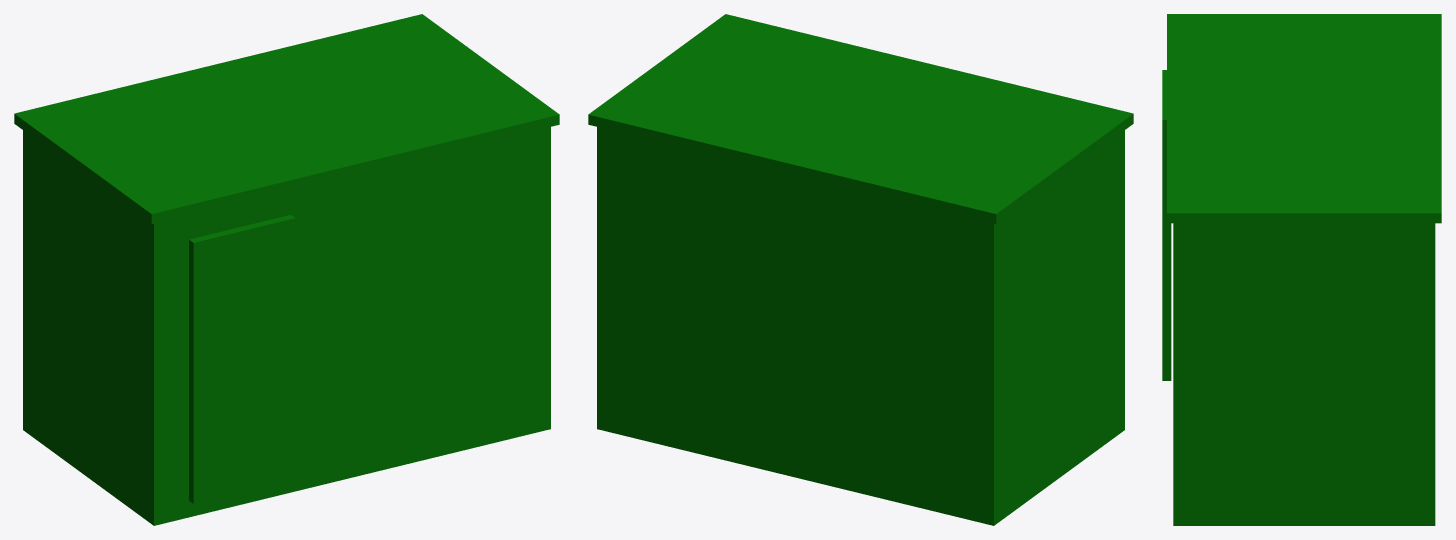
The model's file is Image-1710907568021-2279811767968_27-XJ51.fbx.
3 renders of one model, left to right at view 1: azimuth 30°, elevation 25°; view 2: azimuth 150°, elevation 25°; view 3: azimuth 270°, elevation 25°, orthographic.
Visible parts, largest first — view 1: BOX 1 of SUBEQUIPMENT /27-XJ51/PRIM, BOX 2 of SUBEQUIPMENT /27-XJ51/PRIM, BOX 3 of SUBEQUIPMENT /27-XJ51/PRIM; view 2: BOX 1 of SUBEQUIPMENT /27-XJ51/PRIM, BOX 2 of SUBEQUIPMENT /27-XJ51/PRIM; view 3: BOX 1 of SUBEQUIPMENT /27-XJ51/PRIM, BOX 2 of SUBEQUIPMENT /27-XJ51/PRIM, BOX 3 of SUBEQUIPMENT /27-XJ51/PRIM.
Boxes of the visible parts, left/top/right/bottom form: BOX 1 of SUBEQUIPMENT /27-XJ51/PRIM: left=23, top=127, right=550, bottom=525; BOX 2 of SUBEQUIPMENT /27-XJ51/PRIM: left=14, top=14, right=559, bottom=223; BOX 3 of SUBEQUIPMENT /27-XJ51/PRIM: left=189, top=215, right=295, bottom=503; BOX 1 of SUBEQUIPMENT /27-XJ51/PRIM: left=597, top=127, right=1124, bottom=525; BOX 2 of SUBEQUIPMENT /27-XJ51/PRIM: left=588, top=14, right=1133, bottom=223; BOX 1 of SUBEQUIPMENT /27-XJ51/PRIM: left=1173, top=223, right=1435, bottom=525; BOX 2 of SUBEQUIPMENT /27-XJ51/PRIM: left=1167, top=14, right=1441, bottom=223; BOX 3 of SUBEQUIPMENT /27-XJ51/PRIM: left=1162, top=70, right=1171, bottom=380.
Bounding box in the file's own units: 3.6 × 2.14 × 2.71.
